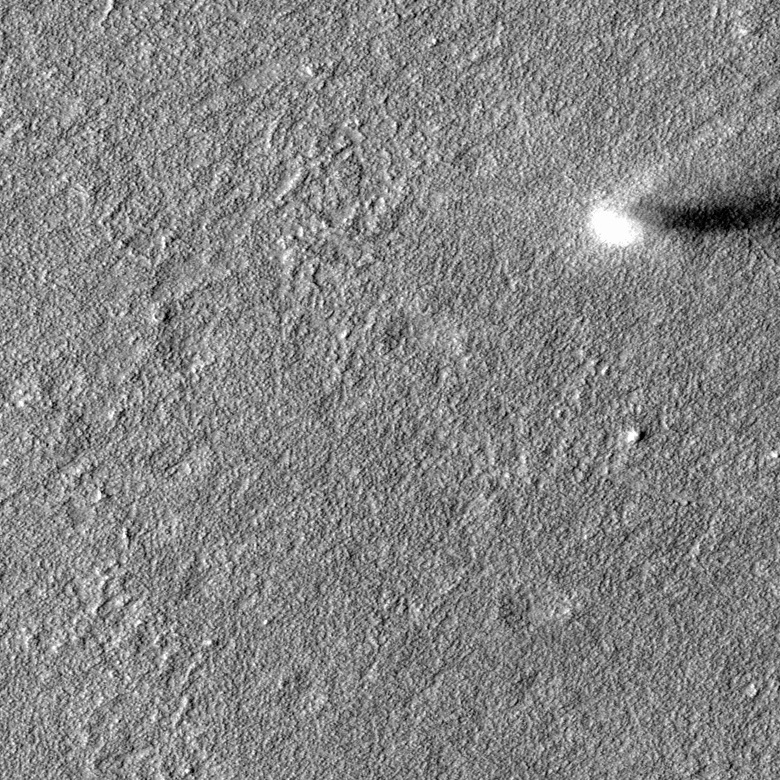dust_devil: (579, 182, 780, 251)
